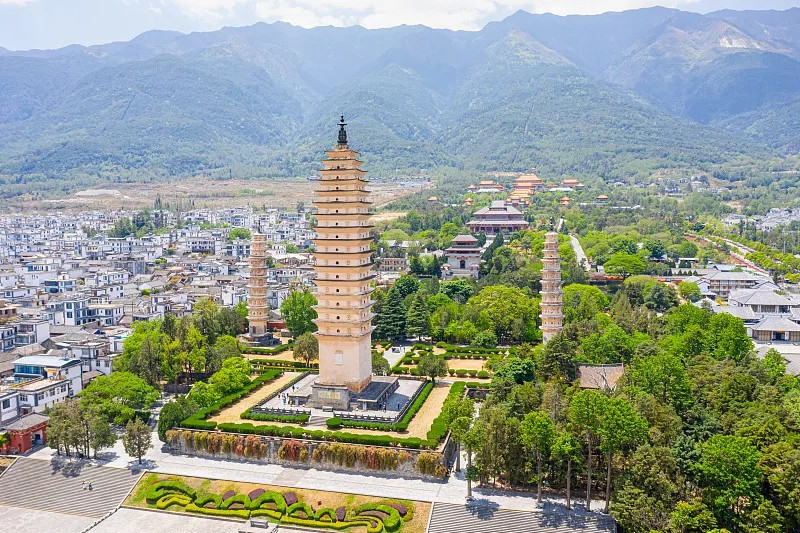ThreePagoda: (311, 114, 378, 392)
